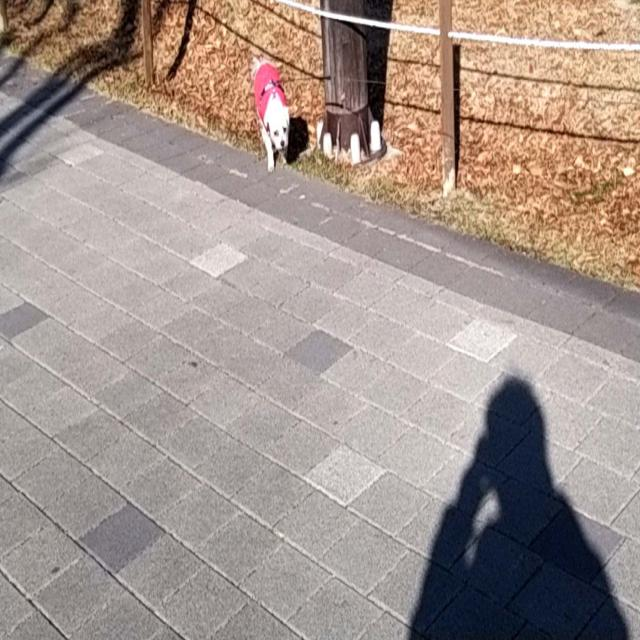Dog: (251, 57, 289, 172)
